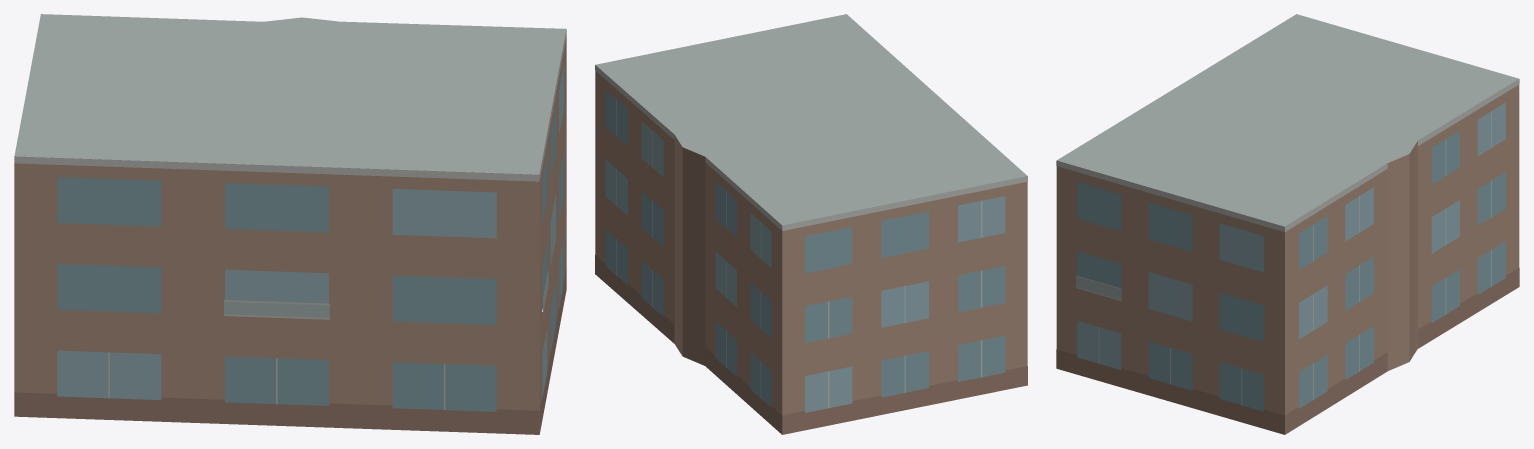
The model's file is survey-upis-32780904.glb.
3 renders of one model, left to right at view 1: azimuth 30°, elevation 25°; view 2: azimuth 150°, elevation 25°; view 3: azimuth 270°, elevation 25°, orthographic. The views are drawn at different scales.
Parts seen in each view (by area): view 1: survey-upis-32780904.tmp; view 2: survey-upis-32780904.tmp; view 3: survey-upis-32780904.tmp.
Boxes of the visible parts, box(x1,y1,x2,y2) form: survey-upis-32780904.tmp: box(14, 14, 566, 434); survey-upis-32780904.tmp: box(595, 14, 1027, 434); survey-upis-32780904.tmp: box(1056, 14, 1519, 434).
Bounding box in the file's own units: 20.06 × 9.15 × 18.45.
